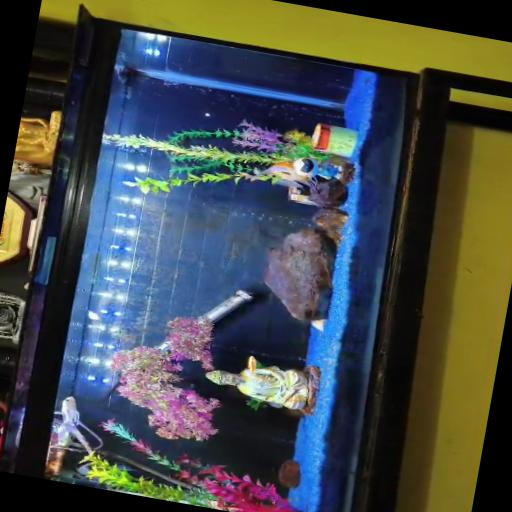Fish: (57, 397, 103, 454), (262, 159, 317, 187), (247, 356, 257, 374)
